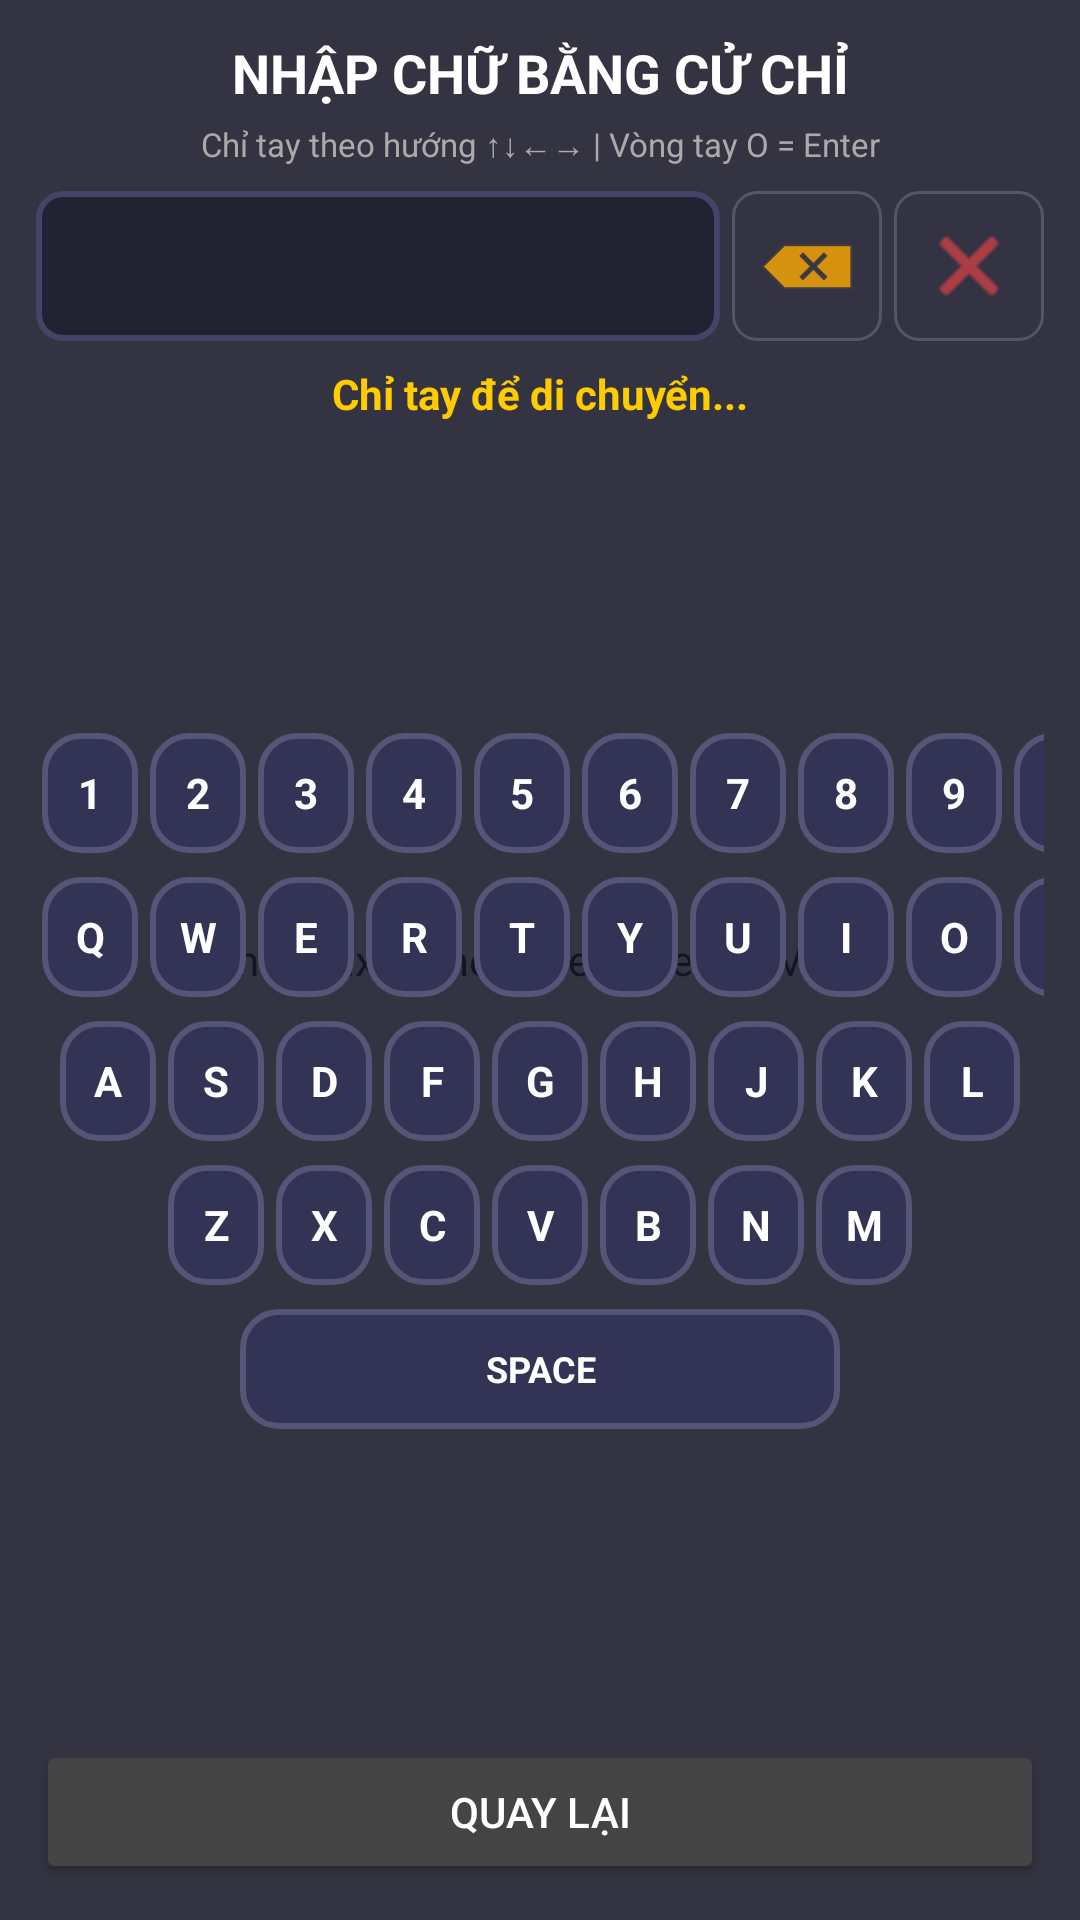

Where to tap for icons on this 1080w x 1920h app screen, as point (x, y):
Backspace: point (807, 266)
Clear: point (969, 266)
